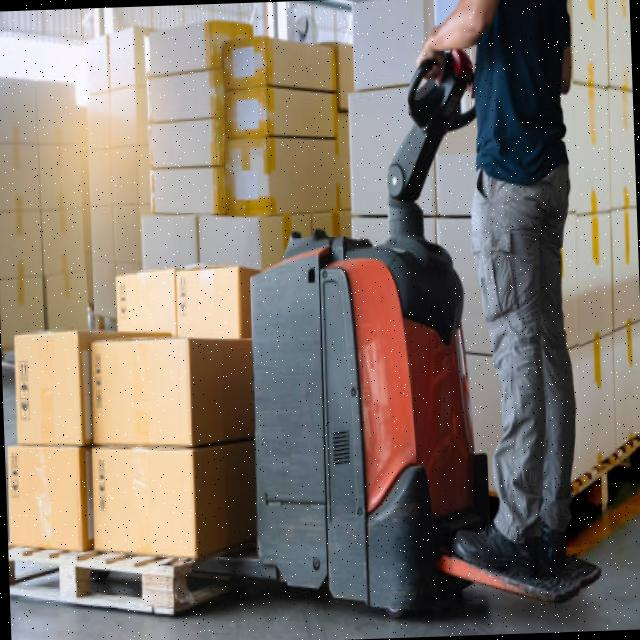Wooden-Pallets: (10, 549, 247, 619)
